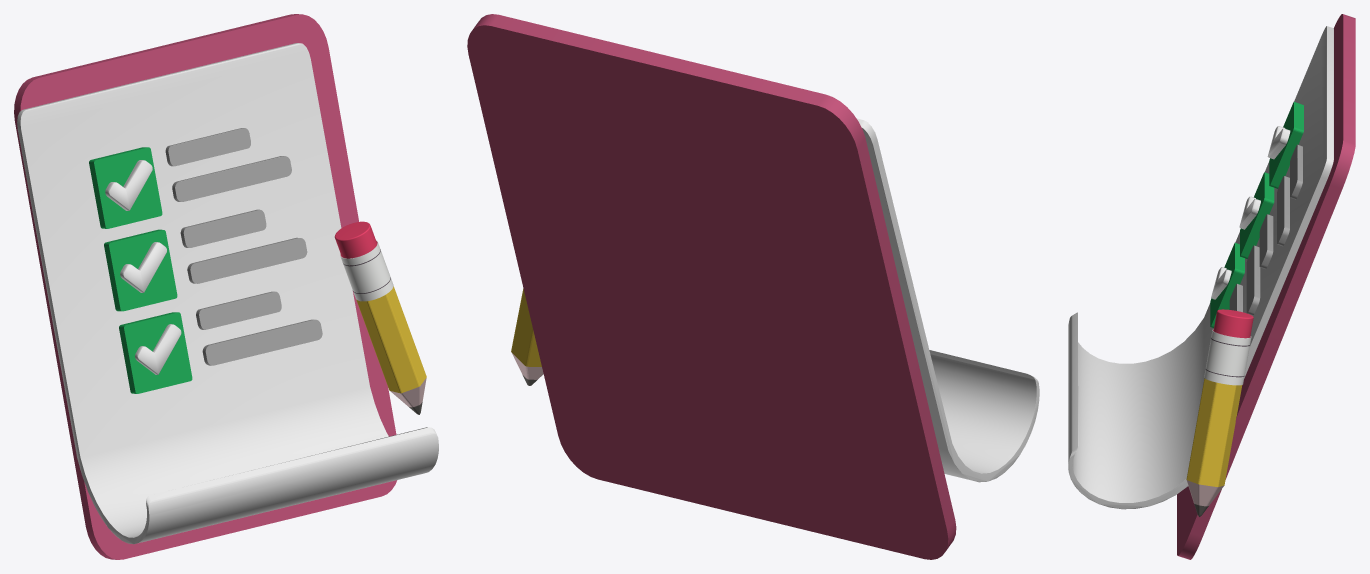
Rendered from todo.glb.
The picture shows the model from 3 angles, left to right: view 1: azimuth 30°, elevation 25°; view 2: azimuth 150°, elevation 25°; view 3: azimuth 270°, elevation 25°; orthographic projection. The views are drawn at different scales.
Parts seen in each view (by area): view 1: Feuille, Support, support_check, ligne2, ligne1, corps, check, gomme; view 2: Support, Feuille, corps; view 3: Feuille, Support, corps, support_check, gomme, ligne2, ligne1, check.
Boxes of the visible parts, x1,y1,x2,y2 form: Feuille: (17,43,438,544); Support: (14,14,397,559); support_check: (89,147,192,393); ligne2: (172,156,322,365); ligne1: (165,128,281,329); corps: (356,286,426,414); check: (105,160,181,374); gomme: (334,221,393,301); Support: (467,14,956,559); Feuille: (856,118,1039,482); corps: (511,288,543,385); Feuille: (1068,26,1333,509); Support: (1177,14,1355,559); corps: (1186,378,1242,516); support_check: (1210,102,1303,327); gomme: (1204,309,1253,385); ligne2: (1246,176,1289,315); ligne1: (1229,144,1302,312); check: (1211,126,1290,299).
Size of the model in its own units: 1.61 by 1.9 by 1.18.
